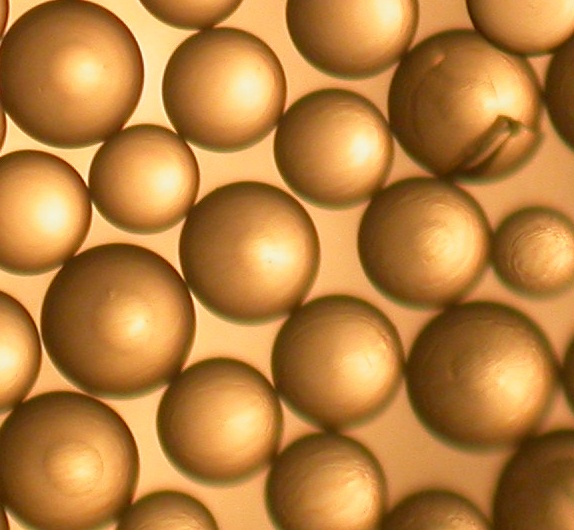resin: (40, 243, 197, 400), (387, 30, 546, 184), (405, 299, 559, 453), (1, 1, 144, 148), (179, 182, 321, 323), (1, 391, 139, 530), (271, 296, 405, 429), (357, 178, 491, 310), (155, 357, 284, 486), (163, 25, 287, 152), (273, 88, 394, 211), (89, 124, 200, 236), (265, 433, 389, 530), (1, 148, 91, 276), (284, 1, 419, 80), (491, 429, 574, 529), (493, 207, 574, 299), (1, 288, 41, 413), (384, 490, 491, 530), (115, 490, 221, 530), (140, 1, 243, 31)
